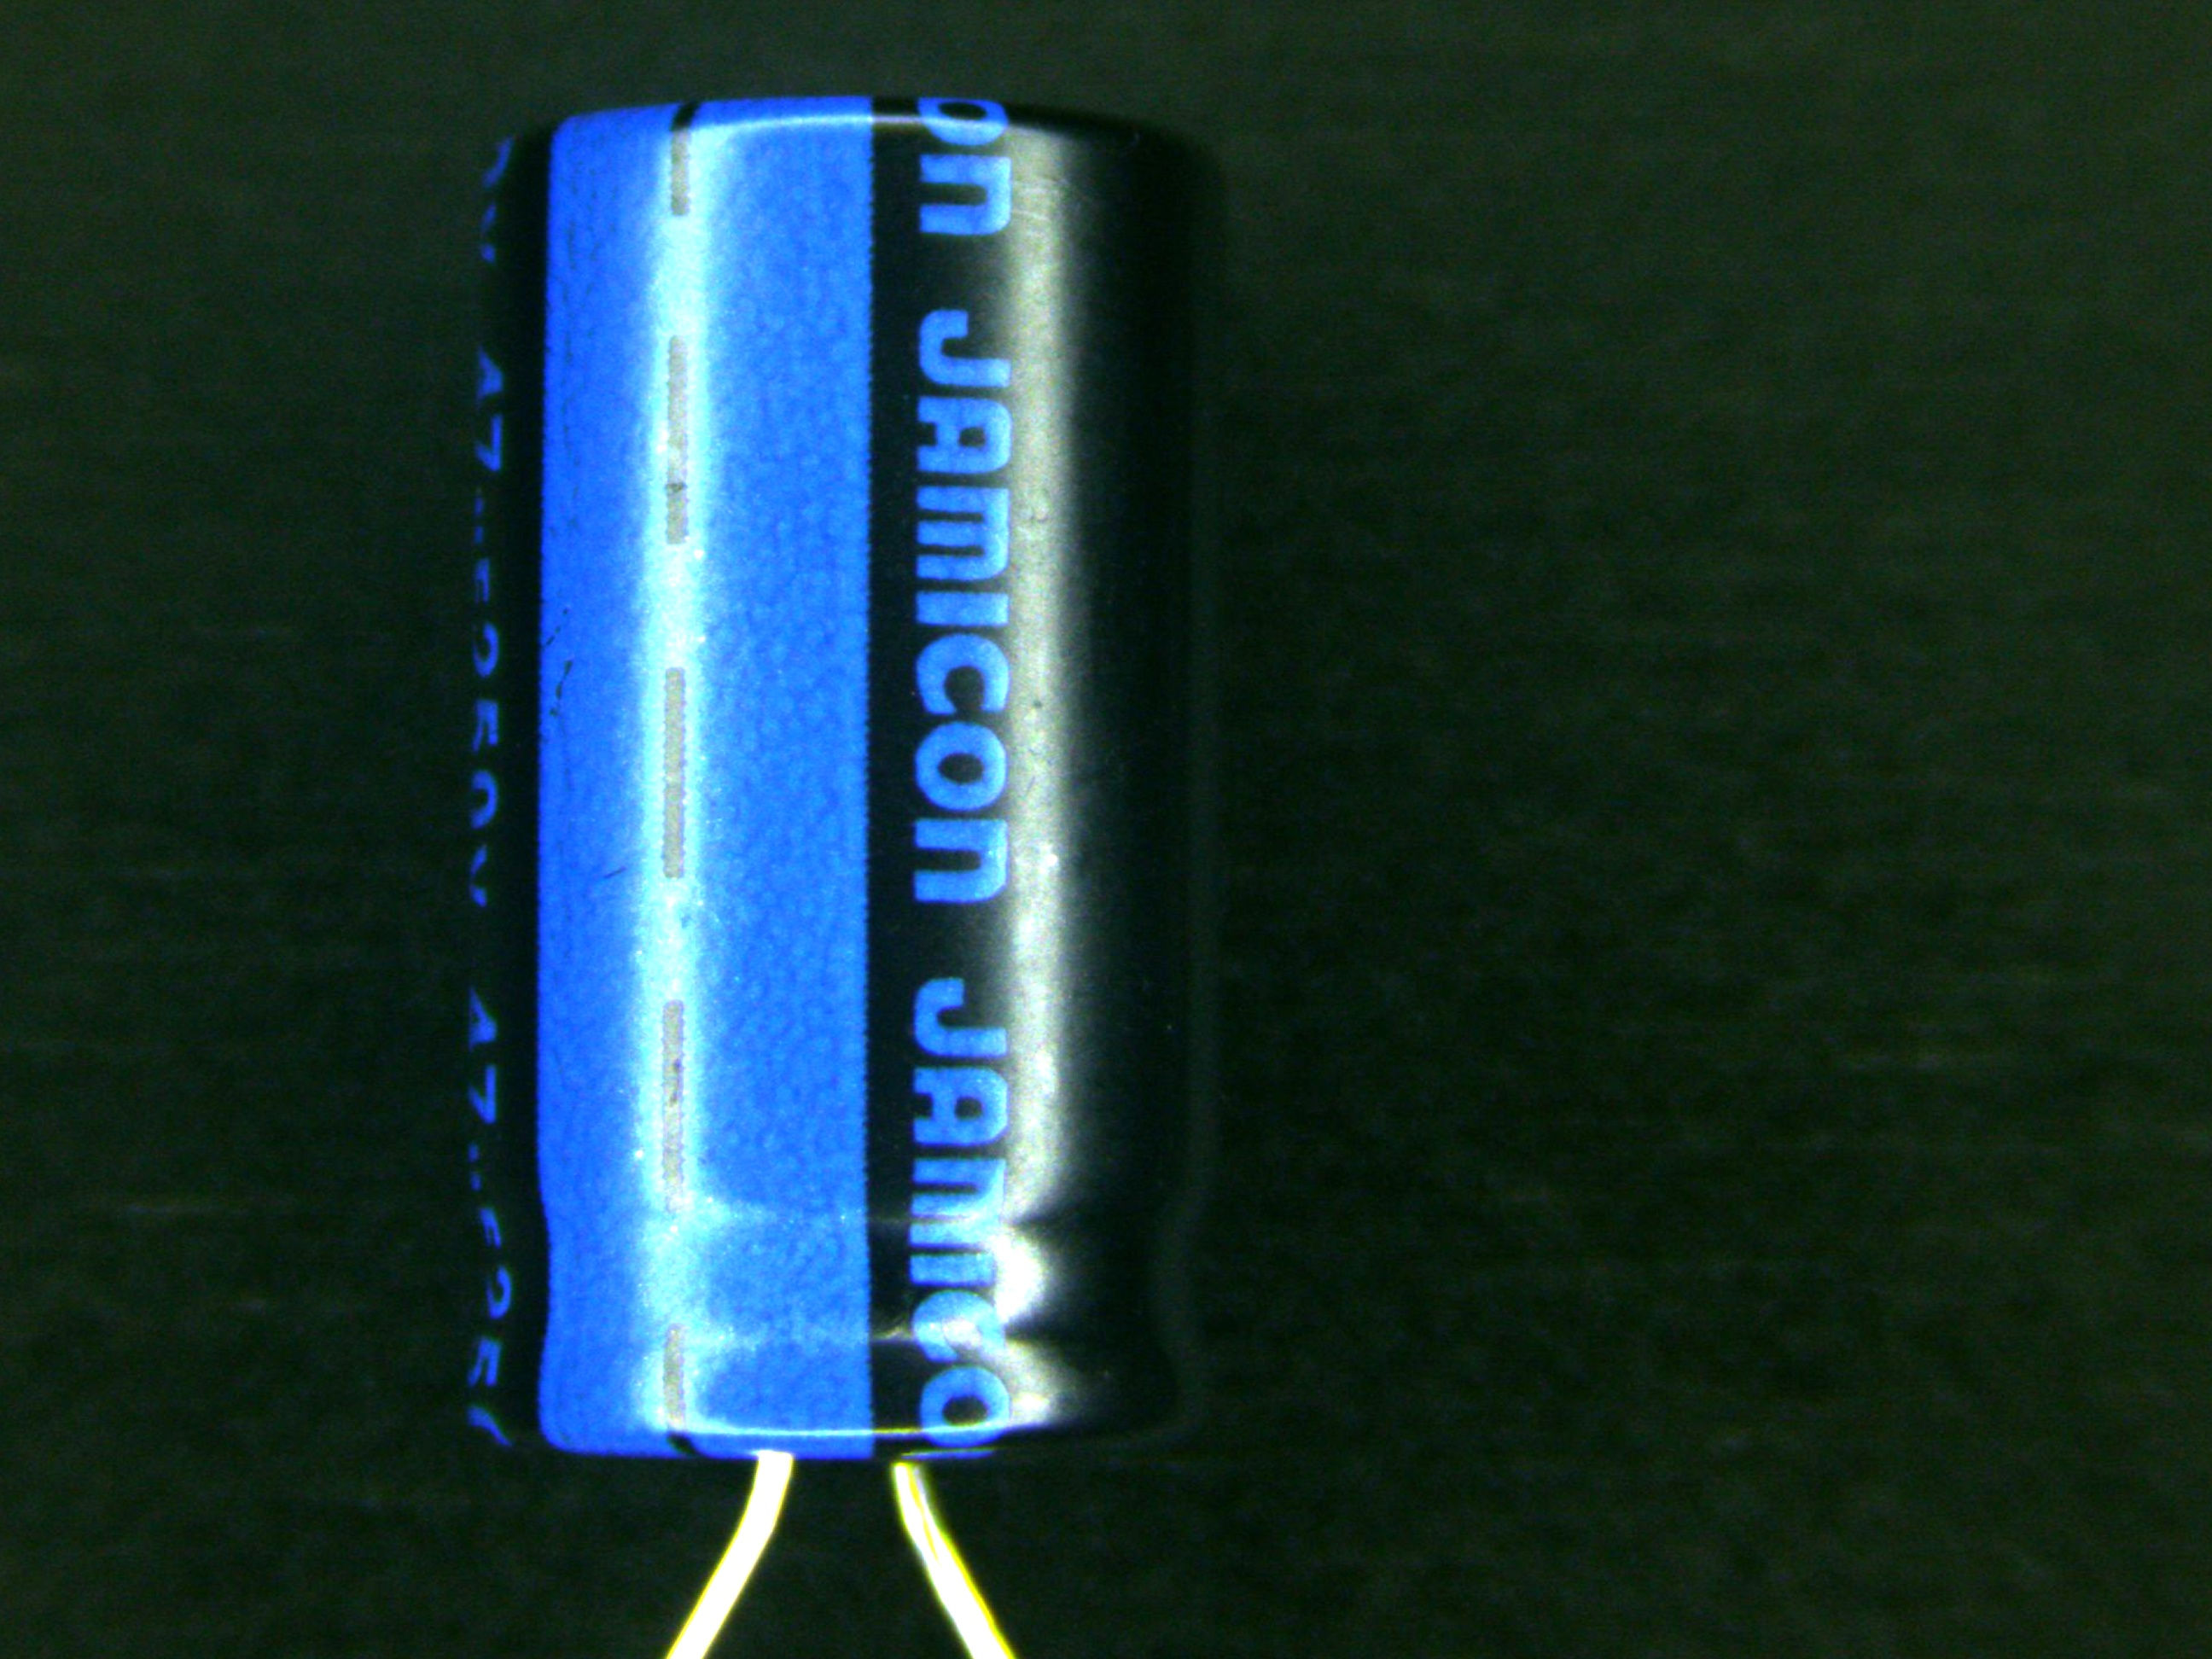c2: (455, 89, 1228, 1603)
